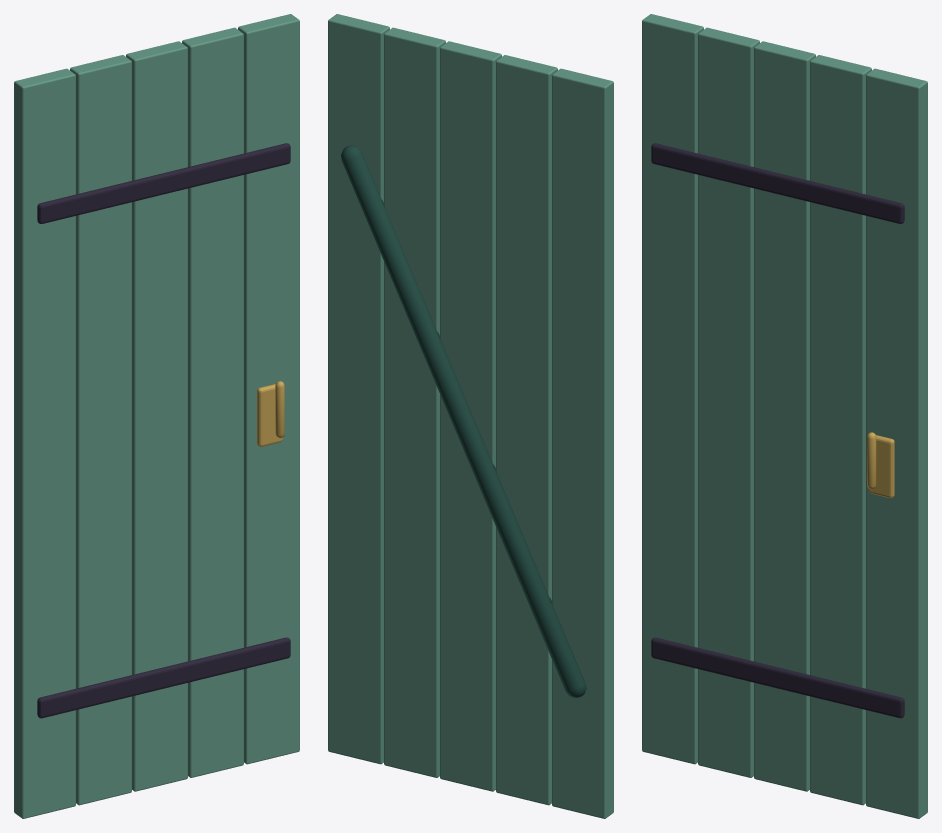
File: shed_door.glb
3 views of the same model, side by side, from view 1: azimuth 30°, elevation 25°; view 2: azimuth 150°, elevation 25°; view 3: azimuth 330°, elevation 25° (orthographic).
Parts seen in each view (by area): view 1: Sage_plank, Sage_plank.001, Sage_plank.002, Sage_plank.003, Sage_plank.004, Iron_strap, Iron_strap.001, Latch, Handle; view 2: Sage_plank, Sage_plank.004, Sage_plank.002, Sage_plank.001, Sage_plank.003, Diagonal_brace; view 3: Sage_plank.004, Sage_plank, Sage_plank.003, Sage_plank.002, Sage_plank.001, Iron_strap, Iron_strap.001, Latch, Handle.
Boxes of the visible parts, x1=… form: Sage_plank: x1=14, y1=68, x2=75, y2=818; Sage_plank.001: x1=70, y1=55, x2=131, y2=805; Sage_plank.002: x1=126, y1=41, x2=187, y2=791; Sage_plank.003: x1=182, y1=27, x2=243, y2=777; Sage_plank.004: x1=238, y1=14, x2=299, y2=764; Iron_strap: x1=37, y1=637, x2=290, y2=718; Iron_strap.001: x1=37, y1=143, x2=290, y2=223; Latch: x1=257, y1=384, x2=282, y2=446; Handle: x1=275, y1=381, x2=284, y2=438; Sage_plank: x1=552, y1=68, x2=613, y2=818; Sage_plank.004: x1=328, y1=14, x2=389, y2=764; Sage_plank.002: x1=440, y1=41, x2=501, y2=791; Sage_plank.001: x1=496, y1=55, x2=557, y2=805; Sage_plank.003: x1=384, y1=27, x2=445, y2=777; Diagonal_brace: x1=341, y1=145, x2=586, y2=697; Sage_plank.004: x1=866, y1=68, x2=927, y2=818; Sage_plank: x1=642, y1=14, x2=703, y2=764; Sage_plank.003: x1=810, y1=55, x2=871, y2=805; Sage_plank.002: x1=754, y1=41, x2=815, y2=791; Sage_plank.001: x1=698, y1=27, x2=759, y2=777; Iron_strap: x1=651, y1=637, x2=904, y2=718; Iron_strap.001: x1=651, y1=143, x2=904, y2=223; Latch: x1=869, y1=435, x2=894, y2=498; Handle: x1=867, y1=432, x2=876, y2=489.
Bounding box in the file's own units: 0.794 × 2 × 0.165.
